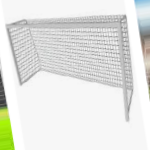goals: (5, 13, 138, 125)
